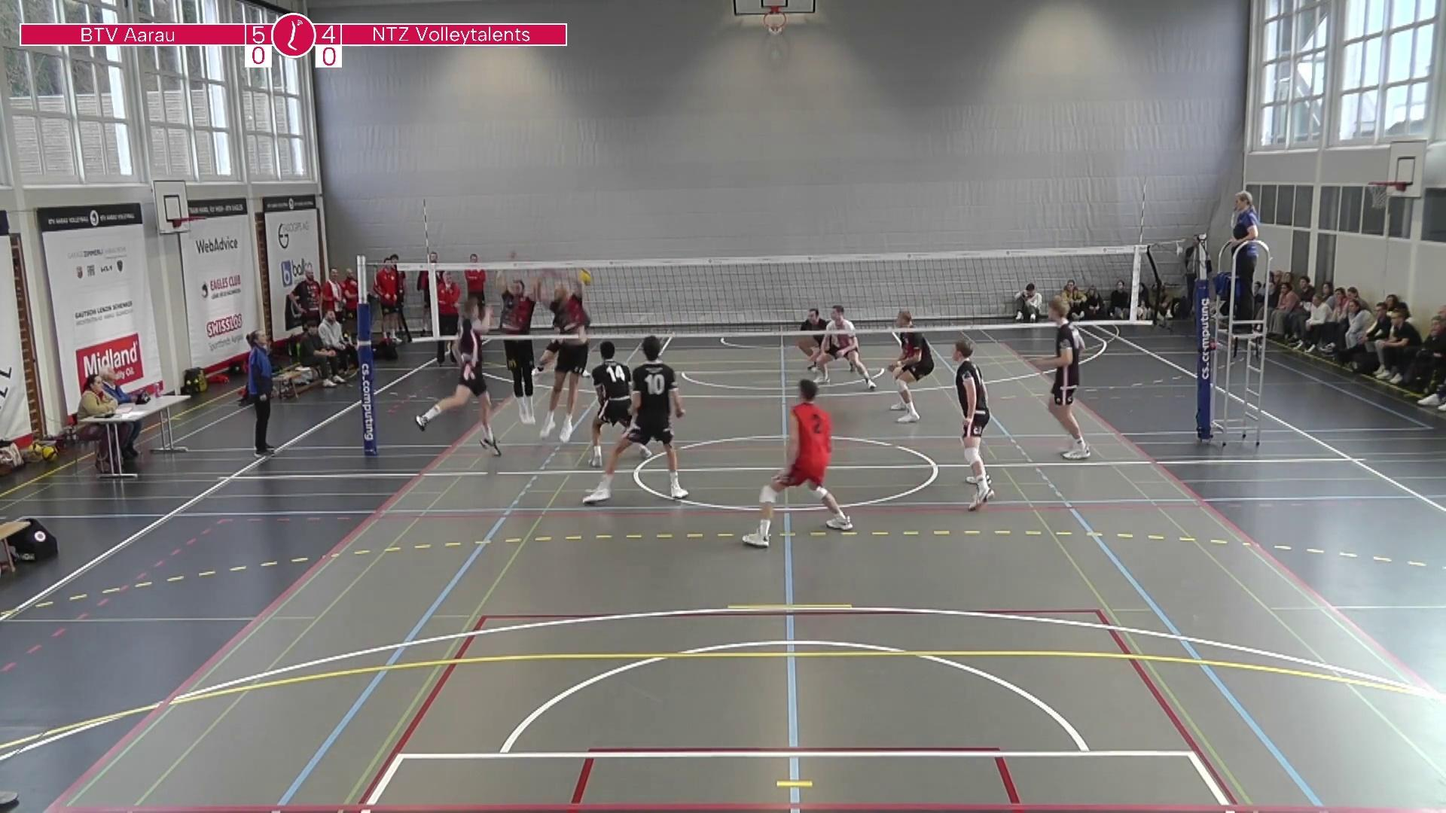muro: (533, 271, 595, 445), (496, 251, 546, 437)
